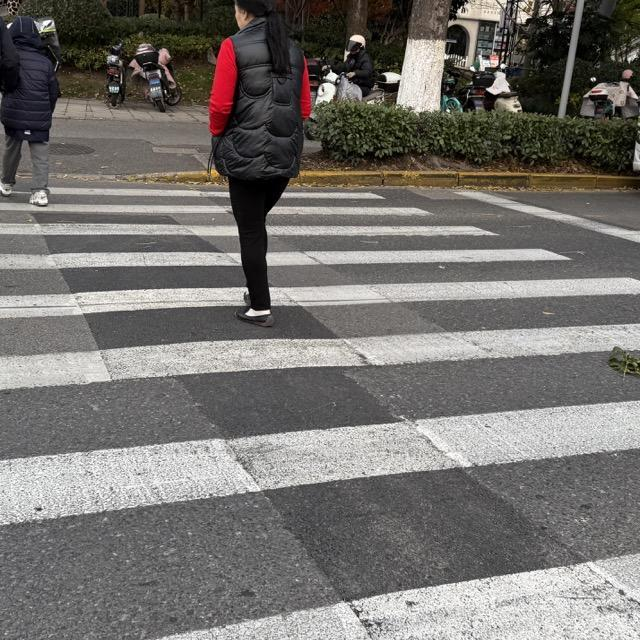curb: (293, 170, 639, 191), (124, 171, 222, 183)
